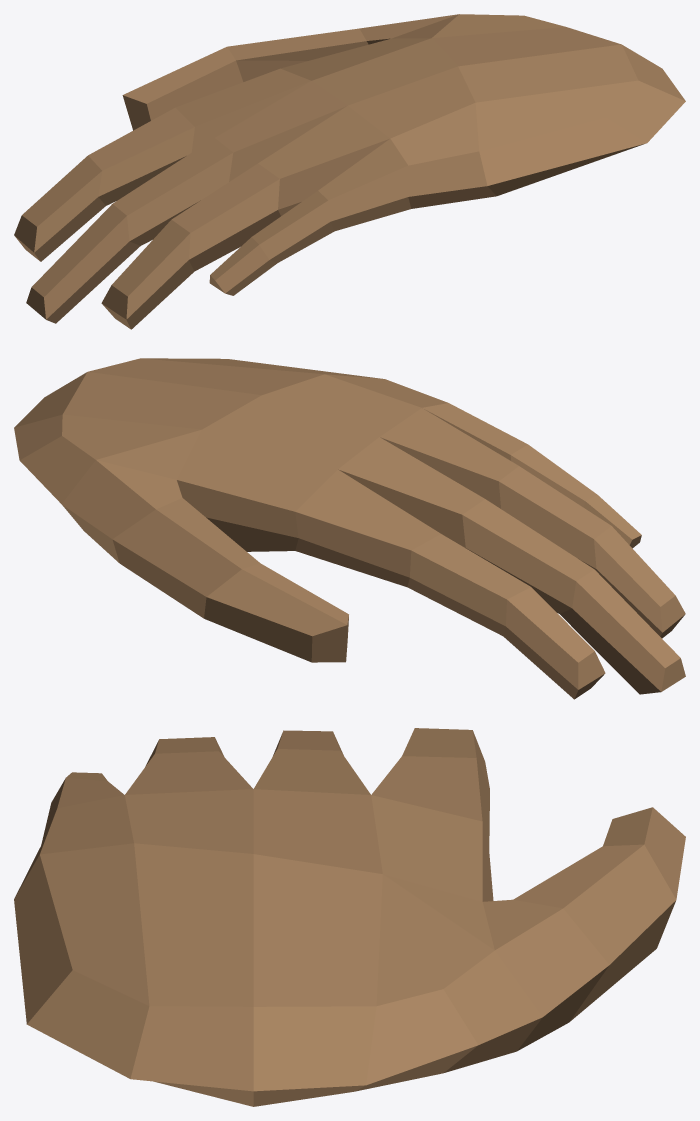
The model's file is HandL.fbx.
3 renders of one model, top to bottom at view 1: azimuth 30°, elevation 25°; view 2: azimuth 150°, elevation 25°; view 3: azimuth 270°, elevation 25°, orthographic. The views are drawn at different scales.
Parts seen in each view (by area): view 1: HandL; view 2: HandL; view 3: HandL.
Boxes of the visible parts, <box> form: HandL: <box>14,14,685,329</box>; HandL: <box>14,358,685,699</box>; HandL: <box>14,728,685,1106</box>.
Bounding box in the file's own units: 30.83 × 8.2 × 18.83.
